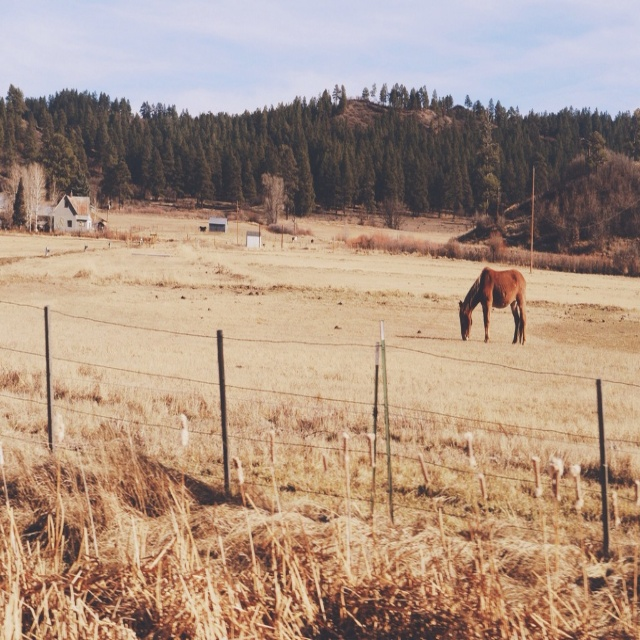Horse: (458, 269, 527, 348)
